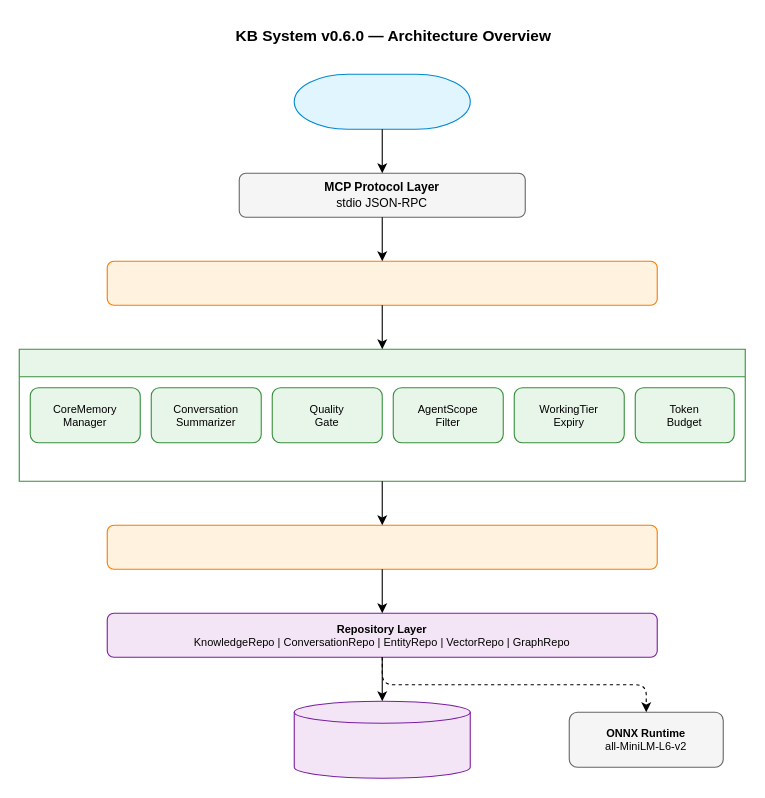
Some shapes in this 765 by 798 pixel diagram are drawn without their labels. The box of each missing label's shape, as (x1, y1, x2, y2) in pixels:
AI Agent (MCP Client): (293, 73, 470, 129)
Search Layer HybridSearch (BM25 + Graph + Vector + RRF): (106, 524, 657, 569)
Service Layer: (18, 348, 745, 481)
SQLite Database .code-intel/index.db: (293, 700, 470, 778)
Tool Layer mem_pin | mem_conversation | mem_map | mem_search | mem_ingest: (106, 260, 657, 305)
